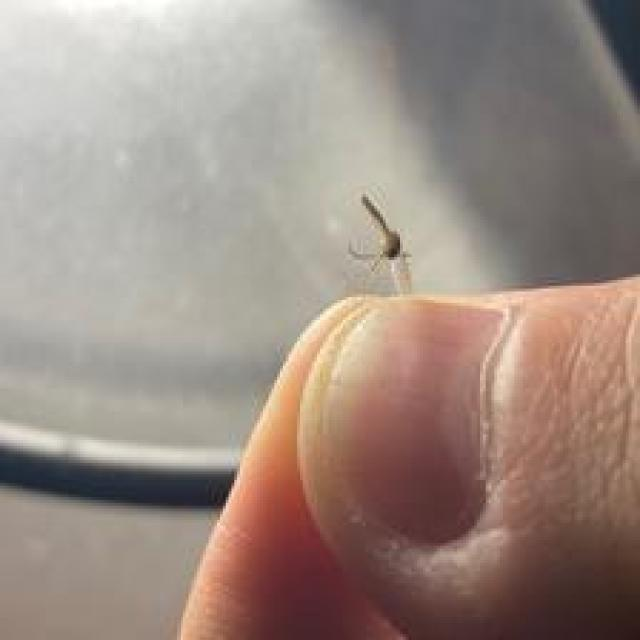Culex: (346, 192, 414, 294)
